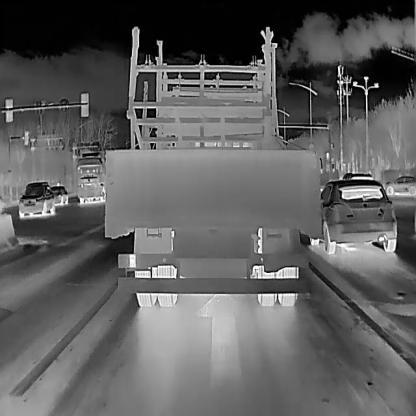car: (102, 73, 320, 307), (318, 180, 396, 252), (75, 150, 106, 203), (16, 180, 56, 216), (385, 175, 415, 197), (49, 185, 69, 206)
